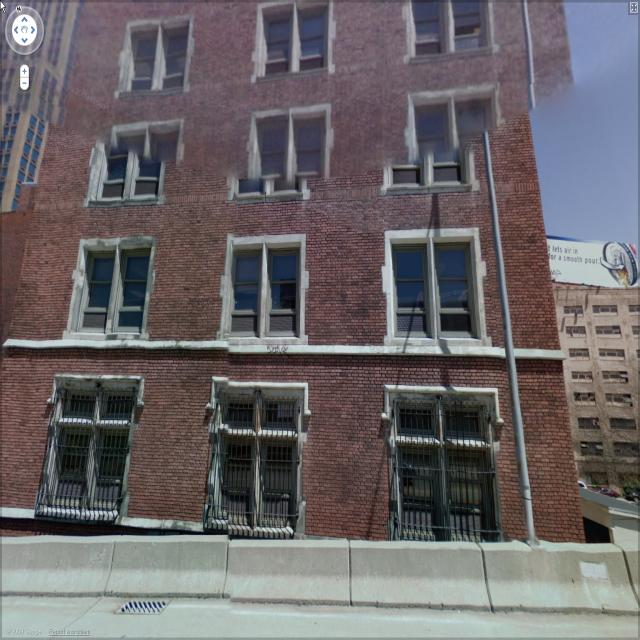b_1: (76, 1, 596, 532), (552, 255, 640, 494), (1, 5, 70, 201)
